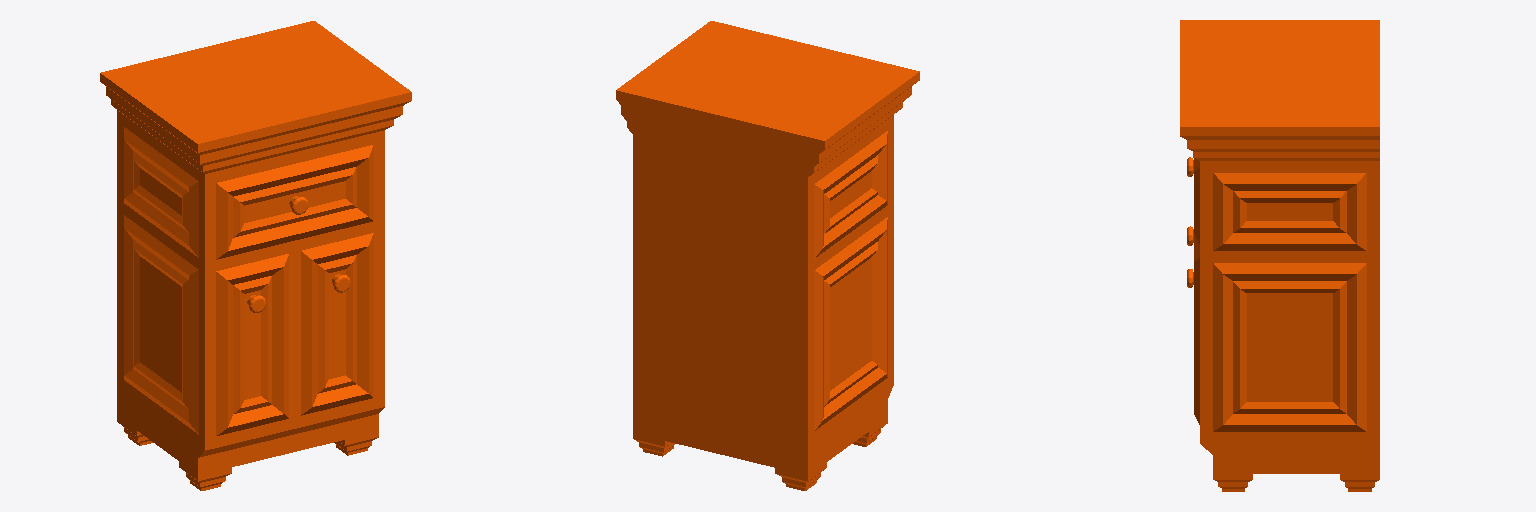
robot.urdf — ChestOfDrawers_7ef036a41e1b9e2aac00fd1150223027:
<?xml version="1.0" ?>
<robot name="ChestOfDrawers_7ef036a41e1b9e2aac00fd1150223027">
   <material name="obj_color">
      <color rgba="1.0 0.423529411765 0.0392156862745 1.0"/>
   </material>
   <link name="top">
      <inertial>
         <origin rpy="0.0003411983696006275 0.0007606576189356666 0.0008309213096925278" xyz="9.083256054287983e-05 0.004944847254783871 -8.680984250896899e-05"/>
         <mass value="0.4933624962343675"/>
         <inertia ixx="0.0007606576189558507" ixy="-1.389337516464436e-09" ixz="-2.198274808709938e-09" iyy="0.0008301002522430349" iyz="2.003538164353345e-05" izz="0.0003420194270299362"/>
      </inertial>
      <visual>
         <origin rpy="0 0 0" xyz="0 0 0"/>
         <geometry>
            <mesh filename="top_watertight_tiny.stl" scale="1 1 1"/>
         </geometry>
         <material name="obj_color"/>
      </visual>
      <collision>
         <origin rpy="0 0 0" xyz="0 0 0"/>
         <geometry>
            <mesh filename="top_watertight_tiny.obj" scale="1 1 1"/>
         </geometry>
      </collision>
   </link>
   <link name="bottom">
      <inertial>
         <origin rpy="1.633333333199431e-08 1.633333333199431e-08 1.633333333362855e-08" xyz="0.3464080000000008 0.3464080000000008 0.3464080000000008"/>
         <mass value="0.0009800000000000017"/>
         <inertia ixx="1.633333333253906e-08" ixy="5.447480642029219e-19" ixz="5.447480642029219e-19" iyy="1.633333333253906e-08" iyz="5.447480642029219e-19" izz="1.633333333253906e-08"/>
      </inertial>
      <visual>
         <origin rpy="0 0 0" xyz="0 0 0"/>
         <geometry>
            <mesh filename="bottom_watertight_tiny.stl" scale="1 1 1"/>
         </geometry>
         <material name="obj_color"/>
      </visual>
   </link>
   <joint name="rotation" type="revolute">
      <origin xyz="0 0 0"/>
      <axis xyz="0 0 -1"/>
      <parent link="bottom"/>
      <child link="top"/>
      <dynamics damping="1.0" friction="1.0"/>
      <limit effort="0.1" velocity="0.1" lower="0" upper="0.001"/>
   </joint>
</robot>

--- Facts derived from the render (not from the file) ---
3 views of the same robot in one strip: view 1: azimuth 30°, elevation 25°; view 2: azimuth 150°, elevation 25°; view 3: azimuth 270°, elevation 25° (orthographic).
Model ChestOfDrawers_7ef036a41e1b9e2aac00fd1150223027 with 2 links and 1 joints (1 revolute), rooted at bottom, posed every joint at zero.
Links seen in each view (by area): view 1: top; view 2: top; view 3: top.
Link boxes in pixels (box(x1,y1,x2,y2)): top: box(100, 21, 411, 490); top: box(616, 21, 919, 490); top: box(1180, 20, 1379, 491).
Size in the robot's own frame: 0.0762 by 0.0602 by 0.125 metres.
1 mesh visuals loaded from 2 distinct referenced files (1 binary STL); not drawn: 1 (reference not matched to a file when rendering).
